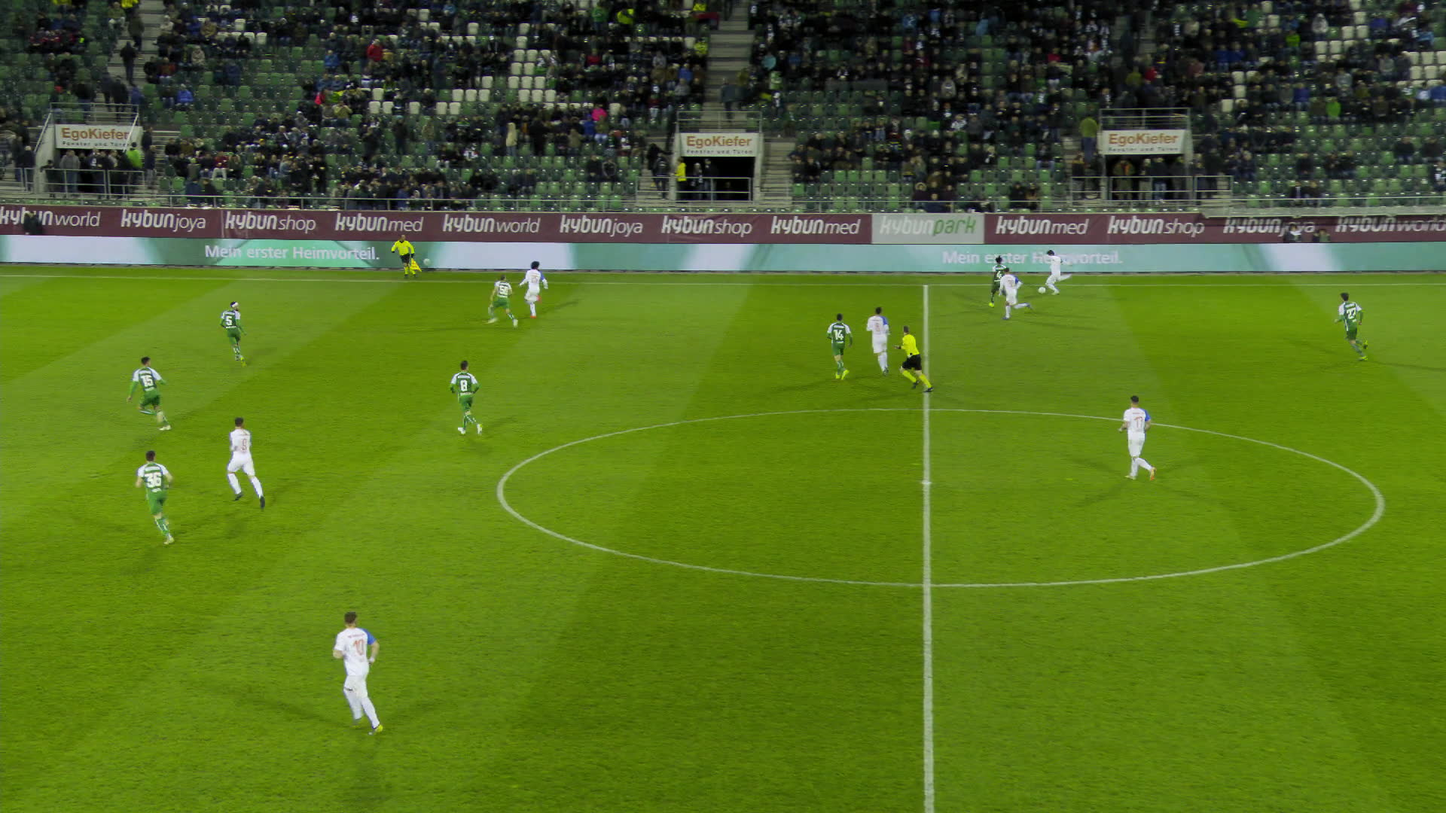ball: (1035, 285, 1045, 294)
player: (335, 612, 394, 732), (129, 445, 187, 548), (220, 420, 270, 506), (124, 356, 181, 430), (444, 356, 487, 441), (1123, 394, 1163, 483), (1330, 292, 1371, 359), (824, 312, 859, 383), (862, 307, 898, 376), (218, 294, 249, 370), (1036, 248, 1078, 296), (999, 267, 1036, 321), (984, 254, 1018, 310), (518, 261, 551, 316), (490, 276, 520, 328)
referee: (901, 327, 938, 393), (394, 232, 423, 277)
